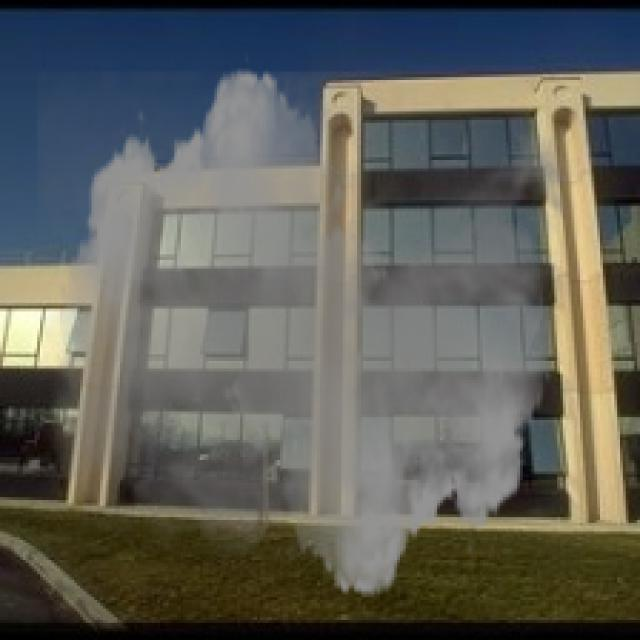Smoke: (37, 51, 589, 614)
